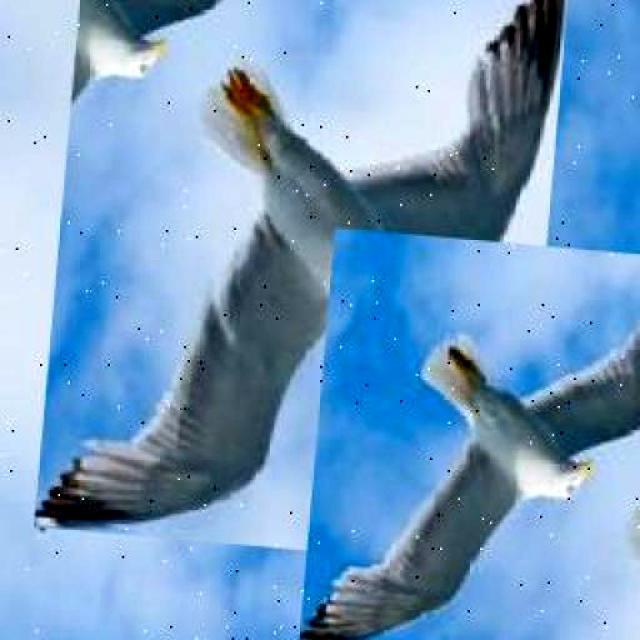airplane: (34, 0, 570, 569), (298, 228, 640, 640)
